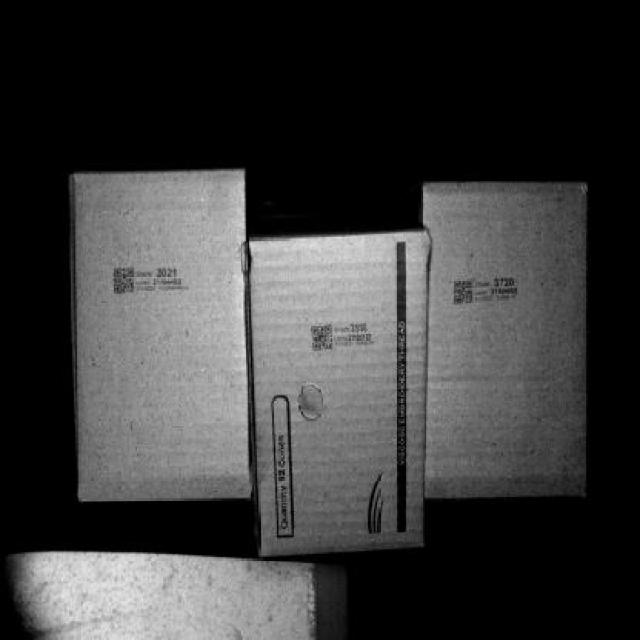cardboxes: (75, 163, 250, 497), (251, 235, 429, 551), (424, 190, 590, 488)
